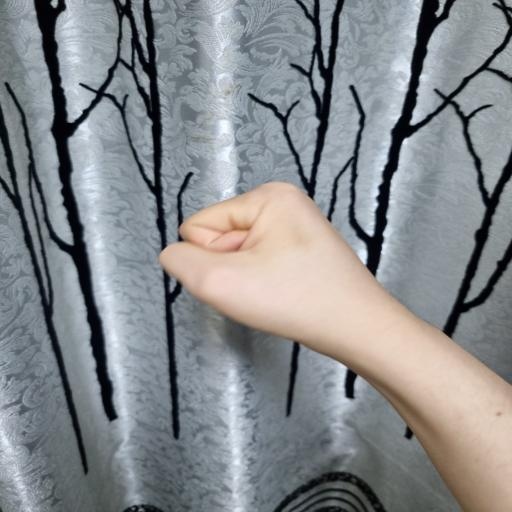Rock: (157, 182, 378, 346)
